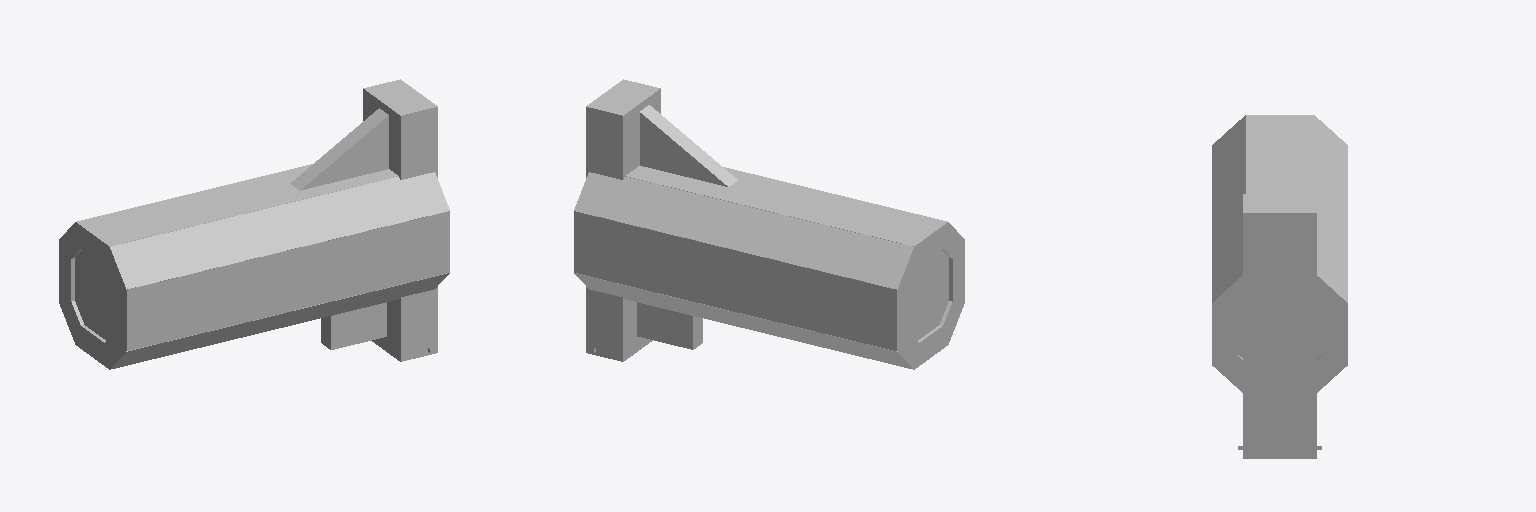
Rendered from overhead_pillar_truss_ad.obj.
The picture shows the model from 3 angles: view 1: azimuth 30°, elevation 25°; view 2: azimuth 150°, elevation 25°; view 3: azimuth 270°, elevation 25°; orthographic projection.
Visible parts, largest first — view 1: side; view 2: side; view 3: side.
Part boxes in pixels (bbox=[...]): side: bbox=[59, 79, 449, 369]; side: bbox=[574, 79, 964, 369]; side: bbox=[1212, 115, 1347, 458].
Size of the model in its own units: 1.39 by 1 by 0.5.